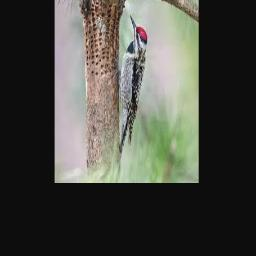Woodpecker: (118, 14, 147, 156)
